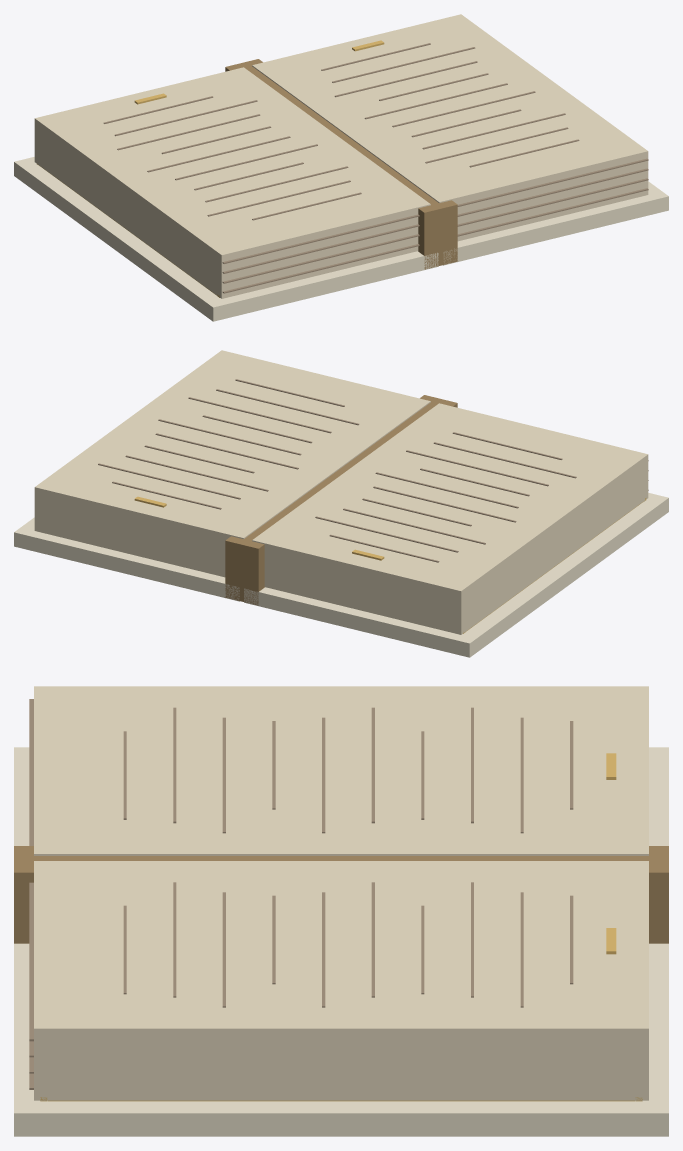
File: biblia_celestial_aberta.glb
3 renders of one model, top to bottom at view 1: azimuth 30°, elevation 25°; view 2: azimuth 150°, elevation 25°; view 3: azimuth 270°, elevation 25°, orthographic. The views are drawn at different scales.
Parts seen in each view (by area): view 1: Open_Left_Page_Block, Open_Right_Page_Block, Open_Left_Cover, Open_Right_Cover, Open_Spine, Open_Left_Edge_0, Open_Left_Edge_1, Open_Left_Edge_3, Open_Left_Edge_2, Open_Right_Edge_0, Open_Right_Edge_1, Open_Right_Edge_2 (+1 smaller); view 2: Open_Left_Page_Block, Open_Right_Page_Block, Open_Left_Cover, Open_Right_Cover, Open_Spine; view 3: Open_Right_Page_Block, Open_Left_Page_Block, Open_Right_Cover, Open_Spine, Open_Left_Cover, Open_R_Frame_Outer, Open_Right_Edge_3, Open_Left_Edge_3.
Part boxes in pixels (x1,y1,x2,y2): Open_Left_Page_Block: (34,67,430,298); Open_Right_Page_Block: (252,14,648,241); Open_Left_Cover: (14,157,438,321); Open_Right_Cover: (443,181,668,265); Open_Spine: (225,59,457,269); Open_Left_Edge_0: (222,244,419,293); Open_Left_Edge_1: (222,234,419,283); Open_Left_Edge_3: (222,214,419,263); Open_Left_Edge_2: (222,224,419,273); Open_Right_Edge_0: (457,188,648,236); Open_Right_Edge_1: (457,178,648,226); Open_Right_Edge_2: (457,168,648,216); Open_Left_Page_Block: (252,403,648,634); Open_Right_Page_Block: (34,350,430,577); Open_Left_Cover: (244,493,668,657); Open_Right_Cover: (14,517,239,601); Open_Spine: (225,395,457,605); Open_Right_Page_Block: (34,861,648,1100); Open_Left_Page_Block: (34,686,648,855); Open_Right_Cover: (14,943,668,1136); Open_Spine: (14,846,668,943); Open_Left_Cover: (14,747,668,845); Open_R_Frame_Outer: (48,1100,634,1101); Open_Right_Edge_3: (29,882,33,1041); Open_Left_Edge_3: (29,699,33,845).
Bounding box in the file's own units: 2.18 × 0.2815 × 1.65.
